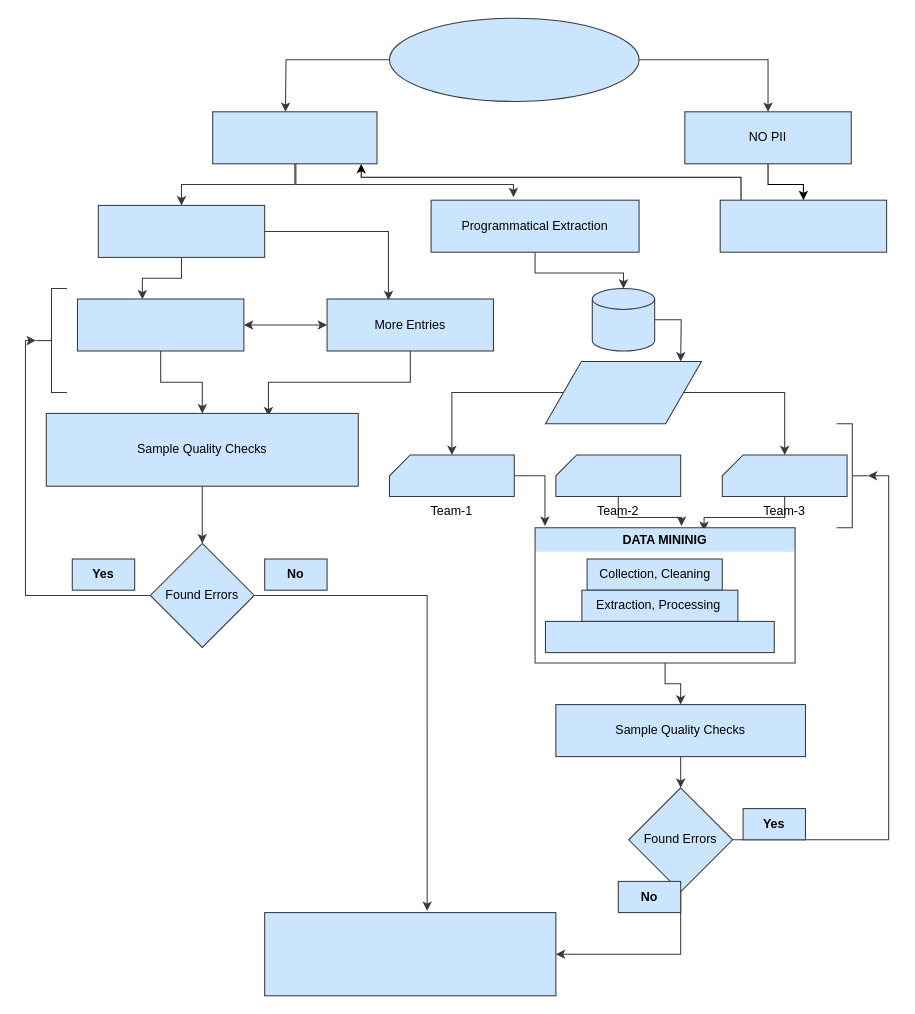
Some shapes in this 915 by 1014 pixel diagram are drawn without their labels. The shapes that lost their labels are listed below. From the top down, each one's centre as x and y in pixels, then its label:
the point at 513,59: Triage Review
the point at 294,137: PII
the point at 181,230: Manual Extraction
the point at 803,225: Potential Quality Checks
the point at 160,324: Less Entries
the point at 623,319: Data
the point at 622,392: File Collections and Organizations
the point at 659,636: Formatting, Consolidations, Reporting
the point at 410,954: Notification and Deliverables
